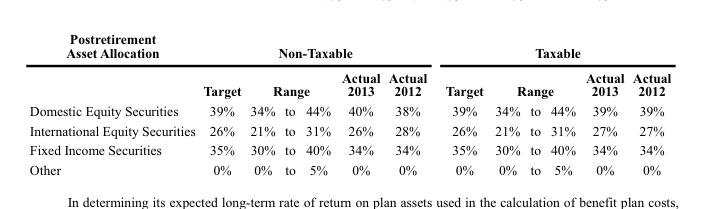table: (28, 29, 670, 178)
table column: (28, 29, 198, 178), (435, 29, 488, 178), (383, 29, 435, 178), (335, 29, 383, 178), (198, 29, 245, 178), (580, 29, 627, 178), (627, 29, 670, 178), (299, 29, 335, 178), (488, 29, 524, 178), (545, 29, 580, 178), (245, 29, 279, 178), (524, 29, 545, 178), (279, 29, 299, 178)
table column header: (28, 29, 670, 120)
table row: (28, 64, 670, 100), (28, 29, 670, 64), (28, 100, 670, 120), (28, 139, 670, 159), (28, 120, 670, 139), (28, 159, 670, 178)
table spanning cell: (28, 29, 198, 120), (198, 29, 435, 64), (435, 29, 670, 64), (488, 64, 580, 100), (245, 64, 335, 100), (435, 64, 488, 120), (383, 64, 435, 120), (335, 64, 383, 120), (198, 64, 245, 120), (580, 64, 627, 120), (627, 64, 670, 120)
